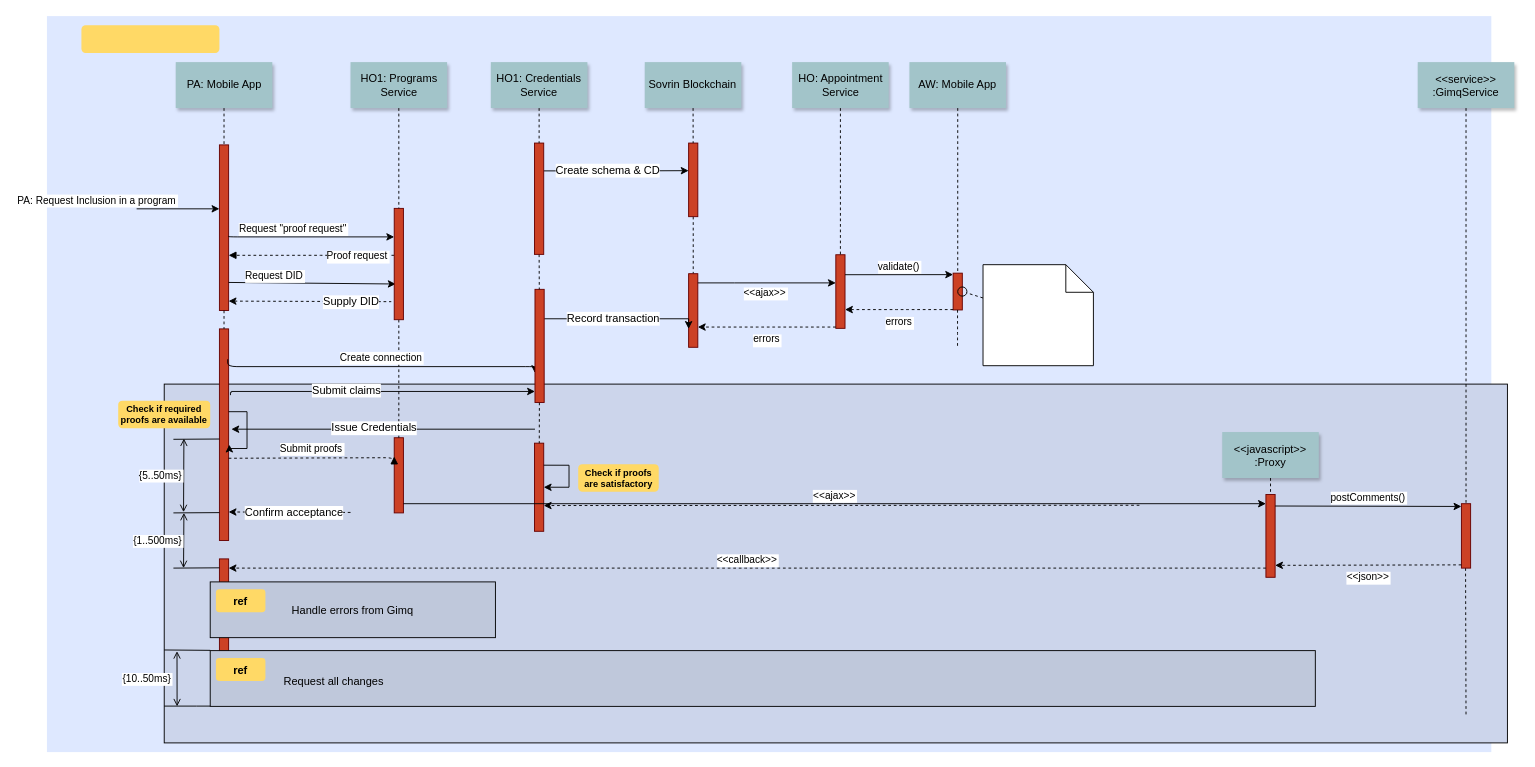
Some shapes in this 1535 by 767 pixel diagram are drawn without their labels. The centre of each missing label's shape, as x and y in pixels:
"- user validation - password check" belongs at (1037,315).
"121 - Sovrin Sequence" belongs at (150,38).
